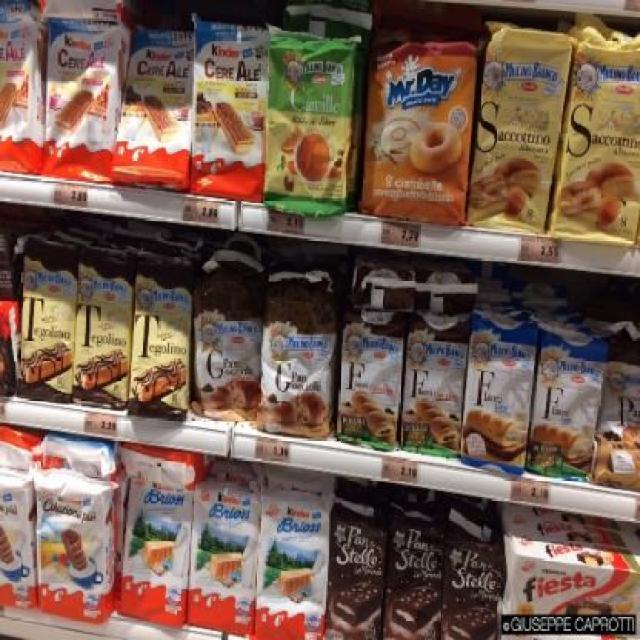Merendine: (471, 30, 569, 238), (364, 41, 468, 222), (556, 27, 639, 245), (266, 23, 354, 215), (190, 13, 268, 202), (42, 17, 118, 188), (255, 289, 339, 443), (31, 476, 114, 624), (124, 22, 193, 194), (188, 476, 260, 638), (256, 482, 328, 640), (118, 475, 192, 627), (462, 316, 533, 472), (506, 537, 640, 615), (190, 283, 262, 427), (530, 327, 598, 476), (334, 312, 404, 450), (398, 321, 466, 459), (128, 281, 194, 419), (74, 258, 130, 411), (328, 500, 388, 638), (18, 260, 76, 400), (384, 509, 446, 638), (444, 518, 498, 638)
